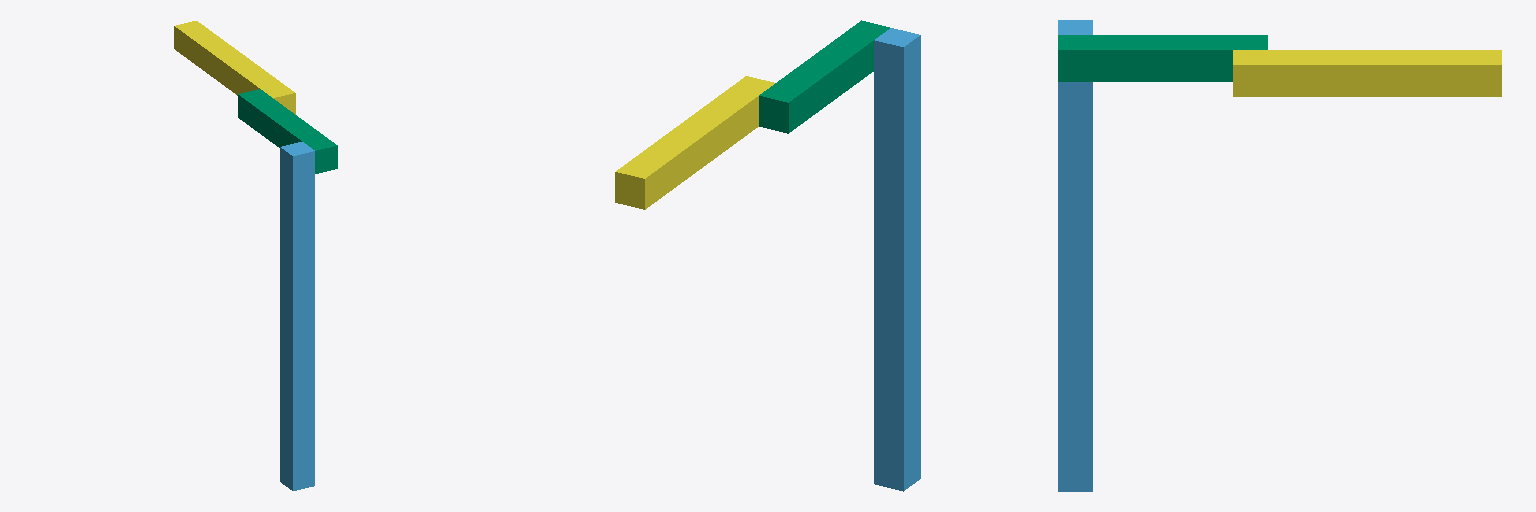
The robot description file, URDF, robot "double_pendulum":
<!-- <?xml version="1.0" ?> -->
<!-- Example modified from rrbot example -->
<robot name="double_pendulum">
  <!-- Use a dummy "base_link" as in REP-120 models -->
  <link name="base_link"/>
  <joint name="fake_base_fixed_joint" type="fixed">
    <parent link="base_link"/>
    <child link="base"/>
  </joint>
  
  <!-- Base Link -->
  <link name="base">
    <collision>
      <origin rpy="0 0 0" xyz="0 0 1.0"/>
      <geometry>
        <box size="0.15 0.15 2.15"/>
      </geometry>
    </collision>
    <visual>
      <origin rpy="0 0 0" xyz="0 0 1.0"/>
      <geometry>
        <box size="0.15 0.15 2.15"/>
      </geometry>
      <material name="orange"/>
    </visual>
    <inertial>
      <mass value="100"/>
      <origin rpy="0 0 0" xyz="0 0 0.0"/>
      <inertia ixx="1.0" ixy="0.0" ixz="0.0" iyy="1.0" iyz="0.0" izz="1.0"/>
    </inertial>
  </link>
  <joint name="upper_joint" type="revolute">
    <parent link="base_link" />
    <child link="upper_link"/>
    <origin rpy="-1.5708 0 0" xyz="0.15 0 2"/>
    <axis xyz="1 0 0"/>
    <limit effort="100" velocity="100.0" lower="-5" upper="5" />
  </joint>


  <!-- Upper link -->
  <link name="upper_link">
    <collision>
      <origin rpy="0 0 0" xyz="0 0 0.40"/>
      <geometry>
        <box size="0.15 0.15 0.90"/>
      </geometry>
    </collision>
    <visual>
      <origin rpy="0 0 0" xyz="0 0 0.375"/>
      <geometry>
        <box size="0.15 0.15 0.90"/>
      </geometry>
    </visual>    
    <inertial>
      <origin rpy="0 0 0" xyz="0 0 0.40"/>
      <mass value="1"/>
      <inertia ixx="1.0" ixy="0.0" ixz="0.0" iyy="1.0" iyz="0.0" izz="1.0"/>
    </inertial>

  </link>
  <joint name="lower_joint" type="revolute">
    <parent link="upper_link"/>
    <child link="lower_link"/>
    <origin rpy="3.1415 0 0" xyz="0.15 0 0.75"/>
    <axis xyz="1 0 0"/>
    <limit effort="100" velocity="100.0" lower="-5" upper="5" />
  </joint>
  <!-- Lower link -->
  <link name="lower_link">
    <collision>
      <origin rpy="0 0 0" xyz="0 0 -0.50"/>
      <geometry>
        <box size="0.15 0.15 1.15"/>
      </geometry>
    </collision>
    <visual>
      <origin rpy="0 0 0" xyz="0.0 0 -0.50"/>
      <geometry>
        <box size="0.15 0.15 1.15"/>
      </geometry>
    </visual>
    
    <inertial>
      <origin rpy="0 0 0" xyz="0 0 -0.50"/>
      <mass value="1"/>
      <inertia ixx="1.0" ixy="0.0" ixz="0.0" iyy="1.0" iyz="0.0" izz="1.0"/>
    </inertial>
  </link>
  
  
  <gazebo>
    <!-- Create an instance the gazebo_controlboard YARP device called "controlboard_plugin_device"-->
    <plugin name="controlboard" filename="libgazebo_yarp_controlboard.so">
        <yarpConfigurationFile>model://double_pendulum/conf/gazebo_controlboard.ini</yarpConfigurationFile>
        <initialConfiguration>0.0 0.0</initialConfiguration>
    </plugin>
    <!-- Launch the other YARP devices, in this case a controlboard_nws_yarp to expose the controlboard functionalities via YARP ports -->
    <plugin name="robotinterface" filename="libgazebo_yarp_robotinterface.so">
        <yarpRobotInterfaceConfigurationFile>model://double_pendulum/conf/double_pendulum_nws.xml</yarpRobotInterfaceConfigurationFile>
    </plugin>
  </gazebo>
</robot>

--- Facts derived from the render (not from the file) ---
The picture shows the robot from 3 angles, left to right: view 1: azimuth 30°, elevation 25°; view 2: azimuth 150°, elevation 25°; view 3: azimuth 270°, elevation 25°; orthographic projection.
Robot: double_pendulum — 4 links, 3 joints (2 revolute, 1 fixed); root link base_link; default pose: every joint at zero.
Links seen in each view (by area): view 1: base, lower_link, upper_link; view 2: base, lower_link, upper_link; view 3: base, lower_link, upper_link.
Link boxes in pixels (x1,y1,x2,y2): base: [280, 142, 314, 490]; lower_link: [174, 21, 295, 114]; upper_link: [238, 89, 337, 173]; base: [874, 28, 920, 491]; lower_link: [615, 76, 774, 209]; upper_link: [759, 20, 889, 133]; base: [1058, 20, 1092, 491]; lower_link: [1233, 50, 1501, 96]; upper_link: [1058, 35, 1267, 81].
Bounding box of the posed robot: 0.45 × 1.9 × 2.15 m (x, y, z).
Geometry: primitives only (box / cylinder / sphere), no mesh files.
